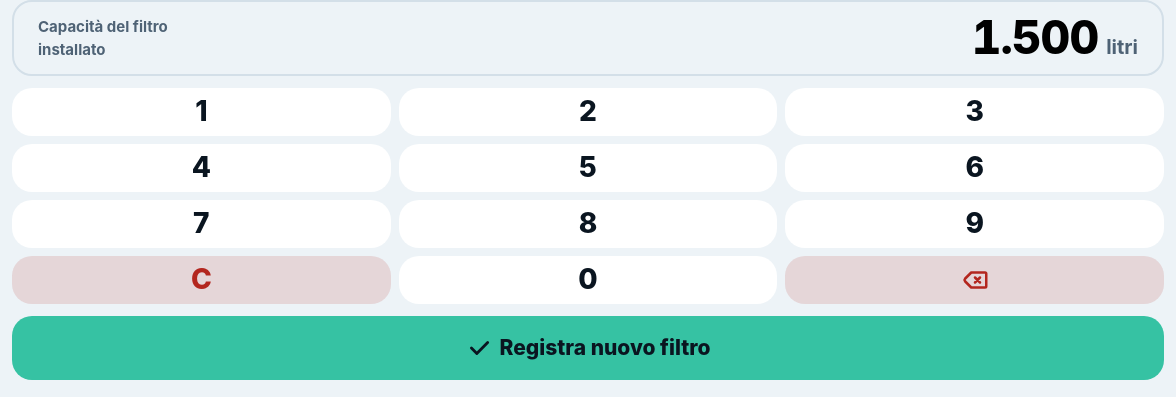
Test: KeyPadPanel › cannot register zero
Click the button named "Azzera" at (201, 280), box x1=12 y1=256 x2=391 y2=304
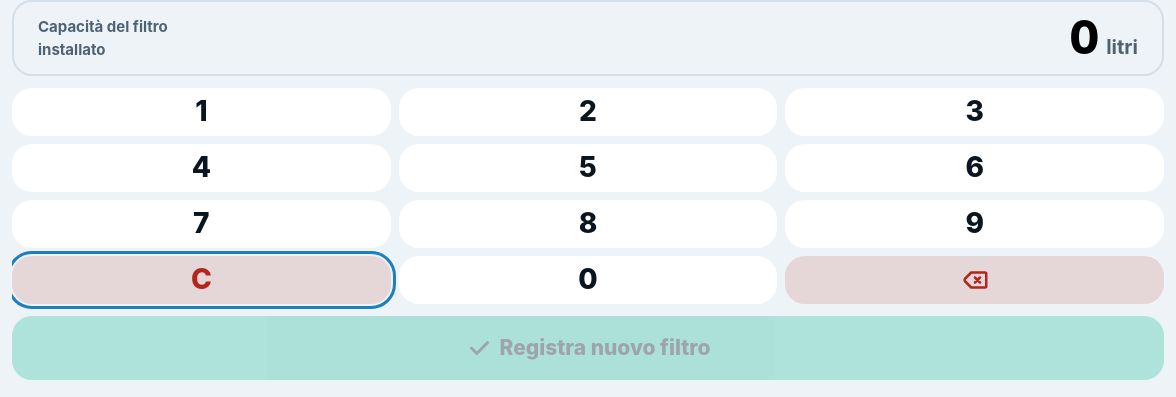
Expected: the button "Registra nuovo filtro" is disabled, x1=12 y1=316 x2=1164 y2=380
